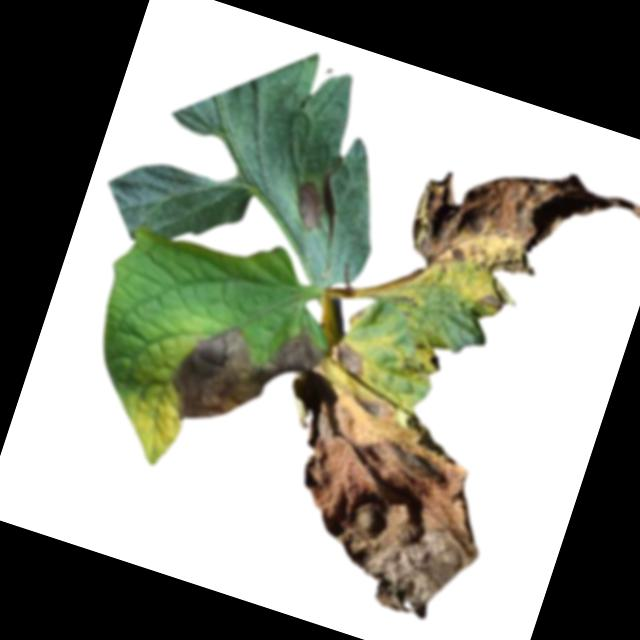Early_blight: (269, 383, 516, 629), (389, 128, 640, 346), (159, 297, 331, 456), (288, 179, 331, 233), (330, 340, 370, 378), (425, 353, 443, 372)
